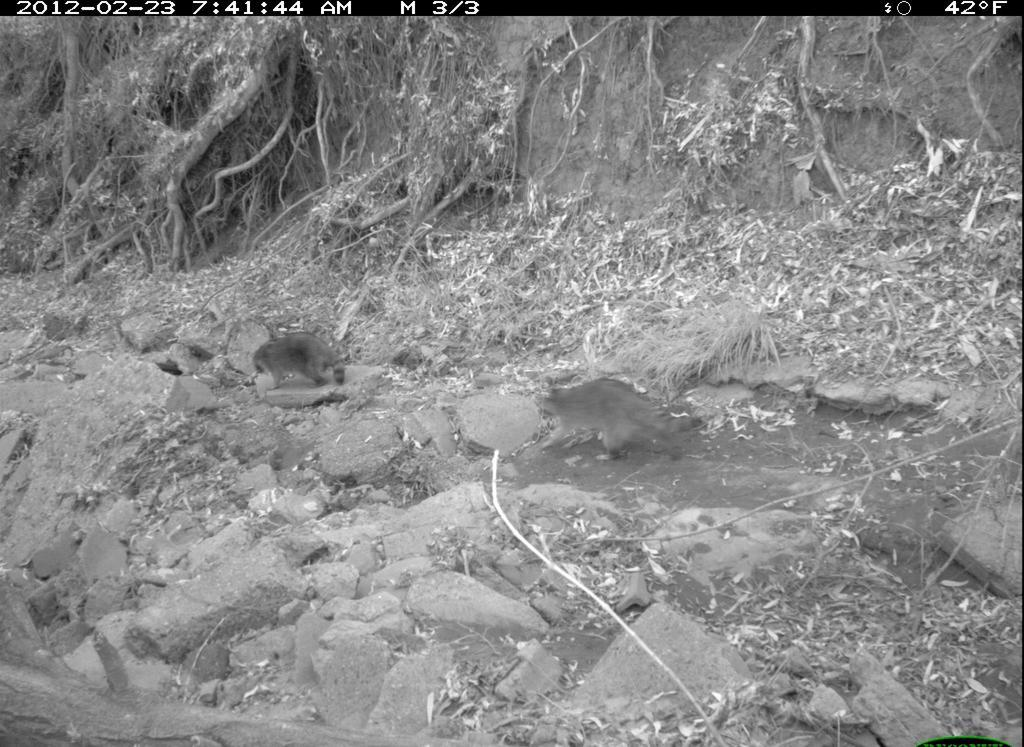raccoon: (527, 376, 717, 473), (242, 319, 358, 403)
